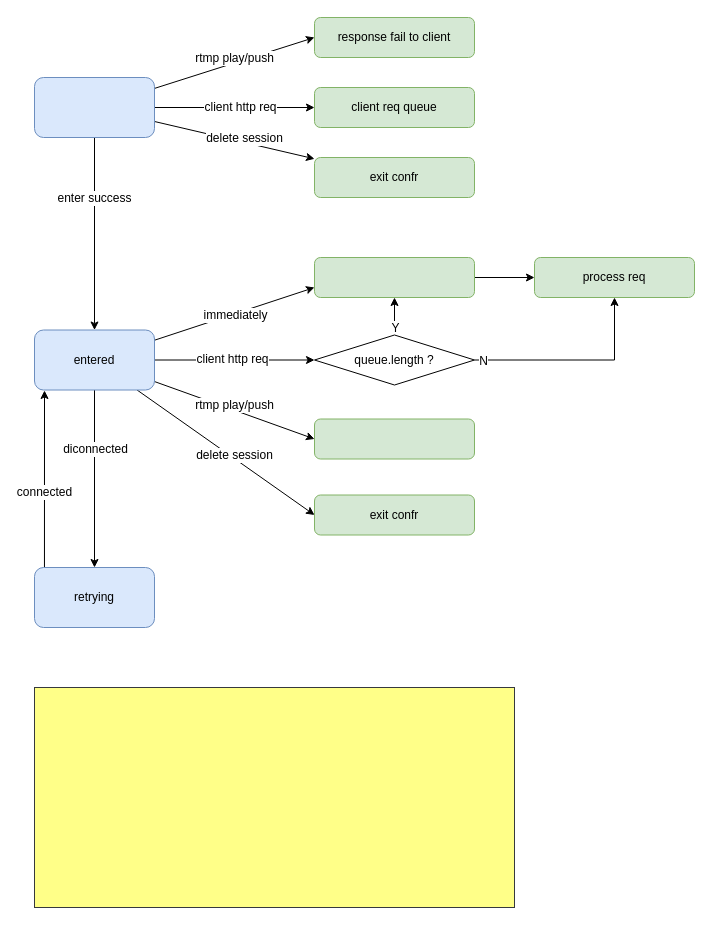
The diagram is 712 pixels wide and 925 high, and some of its shapes have lost their labels. Each missing label, with the box of its shape:
entering: (34, 76, 154, 138)
iterate client req queue: (314, 256, 474, 298)
process play/push: (314, 418, 474, 459)
注意事项： webrtc 发布流，小程序比bridge先收到onpub事件，小程序req stream时bridge会返回NOT found stream。: (34, 686, 514, 908)
